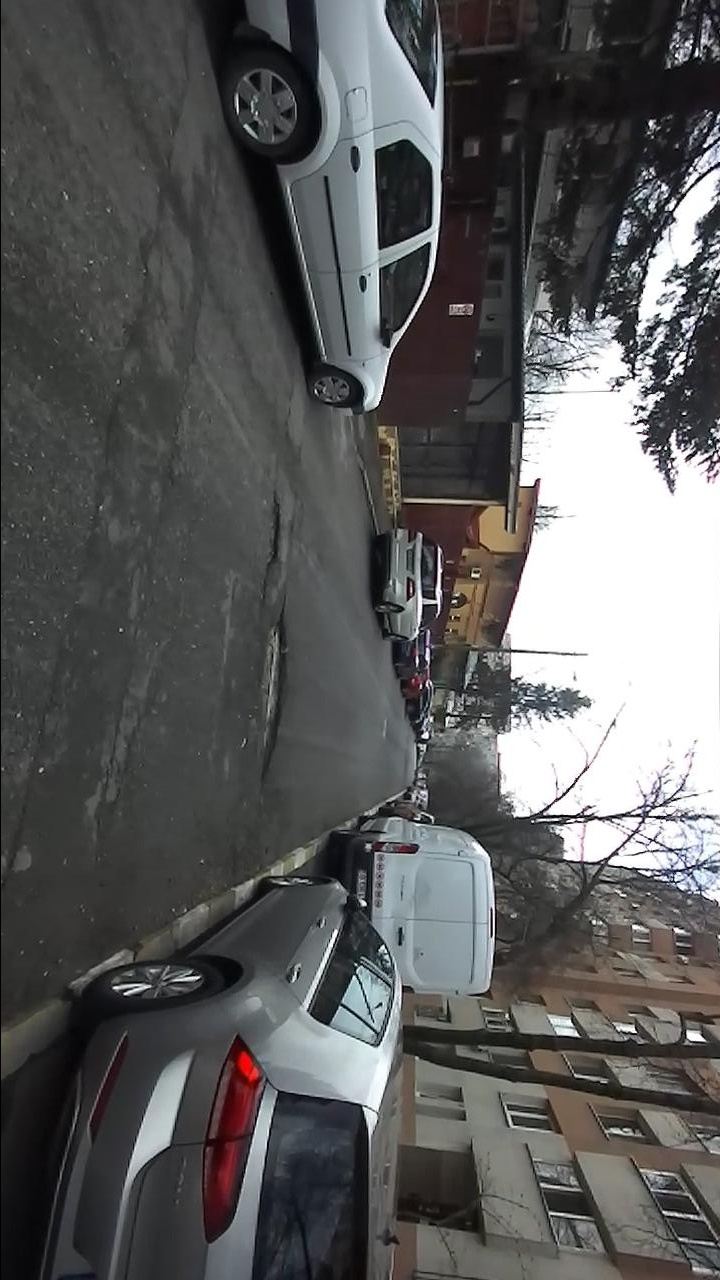pothole: (254, 603, 291, 791), (257, 490, 285, 599)
